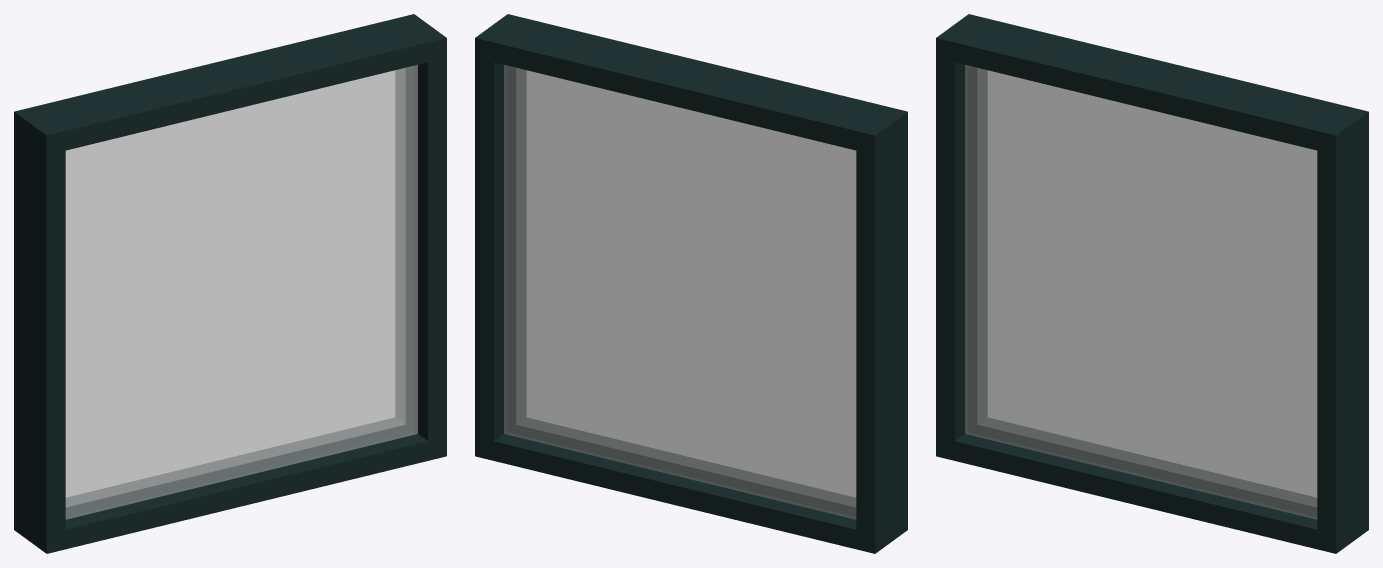
Rendered from window.fbx.
3 views of the same model, side by side, from view 1: azimuth 30°, elevation 25°; view 2: azimuth 150°, elevation 25°; view 3: azimuth 330°, elevation 25° (orthographic).
Visible parts, largest first — view 1: Cube.018; view 2: Cube.018; view 3: Cube.018.
Boxes of the visible parts, <box> form: Cube.018: <box>14,14,446,553</box>; Cube.018: <box>475,14,907,553</box>; Cube.018: <box>936,14,1368,553</box>.
Size of the model in its own units: 98.48 by 98.4 by 13.96.
